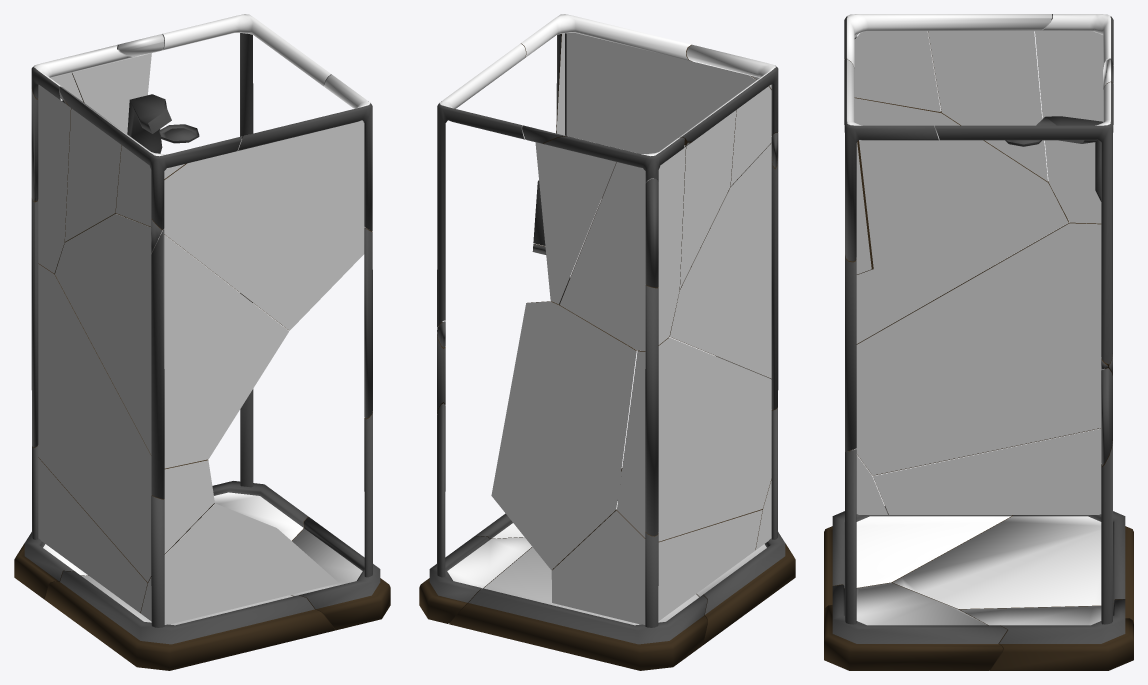
Rendered from Ducha_Roto.fbx.
3 views of the same model, side by side, from view 1: azimuth 30°, elevation 25°; view 2: azimuth 150°, elevation 25°; view 3: azimuth 270°, elevation 25° (orthographic). The views are drawn at different scales.
Visible parts, largest first — view 1: Ducha.001_cell.027, Ducha.001_cell.015, Ducha.001_cell.022, Ducha_cell.011, Ducha.001_cell.005, Ducha_cell.004, Ducha.001_cell.021, Ducha.001_cell.007, Ducha_cell.009, Ducha.001_cell.037, Ducha_cell.013, Ducha_cell.012 (+7 smaller); view 2: Ducha.001_cell.025, Ducha.001_cell.022, Ducha.001_cell.027, Ducha_cell.005, Ducha.001_cell.015, Ducha.001_cell.007, Ducha.001_cell.021, Ducha.001_cell.014, Ducha_cell.008, Ducha_cell.011, Ducha.001_cell.037, Ducha_cell.013 (+8 smaller); view 3: Ducha.001_cell.022, Ducha.001_cell.015, Ducha_cell.005, Ducha_cell.004, Ducha.001_cell.021, Ducha.001_cell.037, Ducha_cell.008, Ducha.001_cell.007, Ducha_cell.011, Ducha.001_cell.027, Ducha_cell.013, Ducha_cell.012 (+4 smaller).
Part boxes in pixels (x1,y1,x2,y2): Ducha.001_cell.027: [115, 120, 366, 330]; Ducha.001_cell.015: [55, 214, 288, 468]; Ducha.001_cell.022: [38, 263, 214, 582]; Ducha_cell.011: [44, 495, 335, 670]; Ducha.001_cell.005: [140, 503, 338, 624]; Ducha_cell.004: [240, 293, 390, 630]; Ducha.001_cell.021: [38, 457, 148, 613]; Ducha.001_cell.007: [38, 73, 124, 273]; Ducha_cell.009: [151, 227, 372, 499]; Ducha.001_cell.037: [65, 108, 121, 242]; Ducha_cell.013: [159, 14, 331, 143]; Ducha_cell.012: [59, 34, 242, 229]; Ducha.001_cell.025: [491, 301, 636, 569]; Ducha.001_cell.022: [617, 337, 771, 541]; Ducha.001_cell.027: [556, 33, 771, 198]; Ducha_cell.005: [449, 532, 707, 670]; Ducha.001_cell.015: [669, 143, 771, 378]; Ducha.001_cell.007: [559, 145, 685, 351]; Ducha.001_cell.021: [551, 509, 762, 624]; Ducha.001_cell.014: [535, 142, 615, 304]; Ducha_cell.008: [419, 403, 532, 623]; Ducha_cell.011: [696, 407, 795, 644]; Ducha.001_cell.037: [679, 110, 736, 289]; Ducha_cell.013: [437, 43, 525, 328]; Ducha.001_cell.022: [853, 222, 1104, 475]; Ducha.001_cell.015: [854, 97, 1068, 343]; Ducha_cell.005: [892, 511, 1133, 623]; Ducha_cell.004: [824, 368, 1112, 670]; Ducha.001_cell.021: [873, 428, 1101, 514]; Ducha.001_cell.037: [928, 31, 1047, 181]; Ducha_cell.008: [959, 440, 1133, 670]; Ducha.001_cell.007: [1035, 20, 1103, 223]; Ducha_cell.011: [824, 449, 1012, 611]; Ducha.001_cell.027: [854, 31, 940, 274]; Ducha_cell.013: [934, 82, 1113, 364]; Ducha_cell.012: [844, 14, 1113, 146].
Size of the model in its own units: 94.65 by 180 by 94.65.
